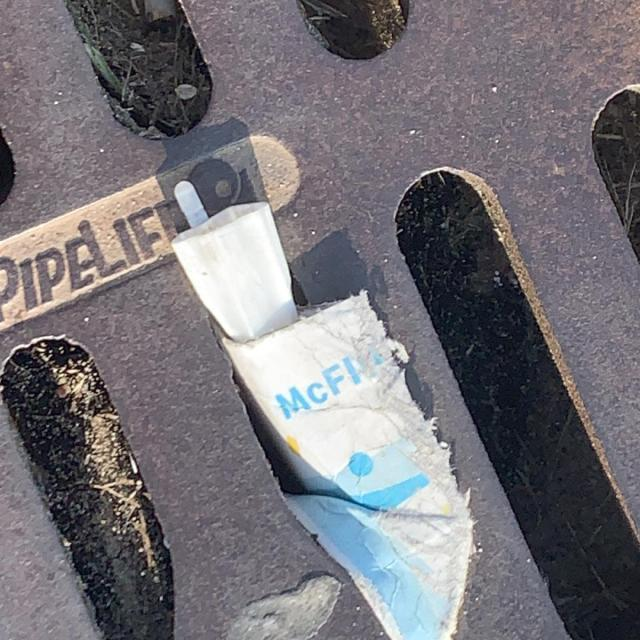Paper: (168, 196, 476, 638)
